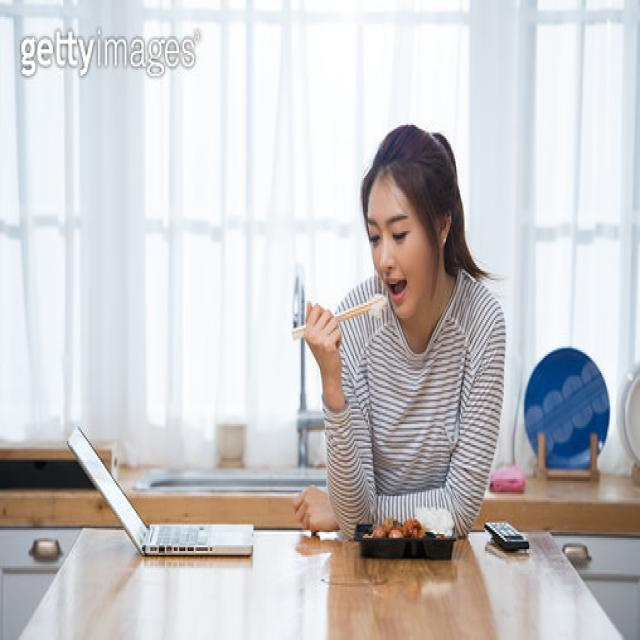eating-person: (272, 107, 516, 576)
